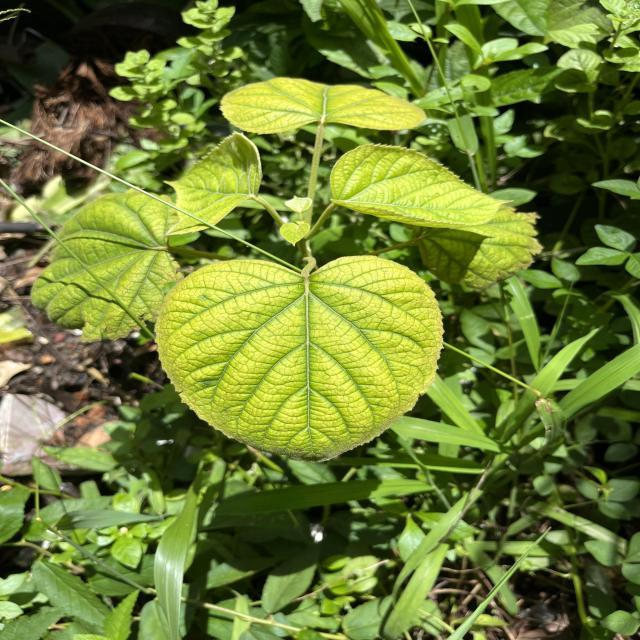Clerodendrum infortunatum: (151, 252, 445, 466), (30, 186, 183, 344), (328, 142, 517, 232), (216, 76, 429, 136), (162, 130, 264, 237)
